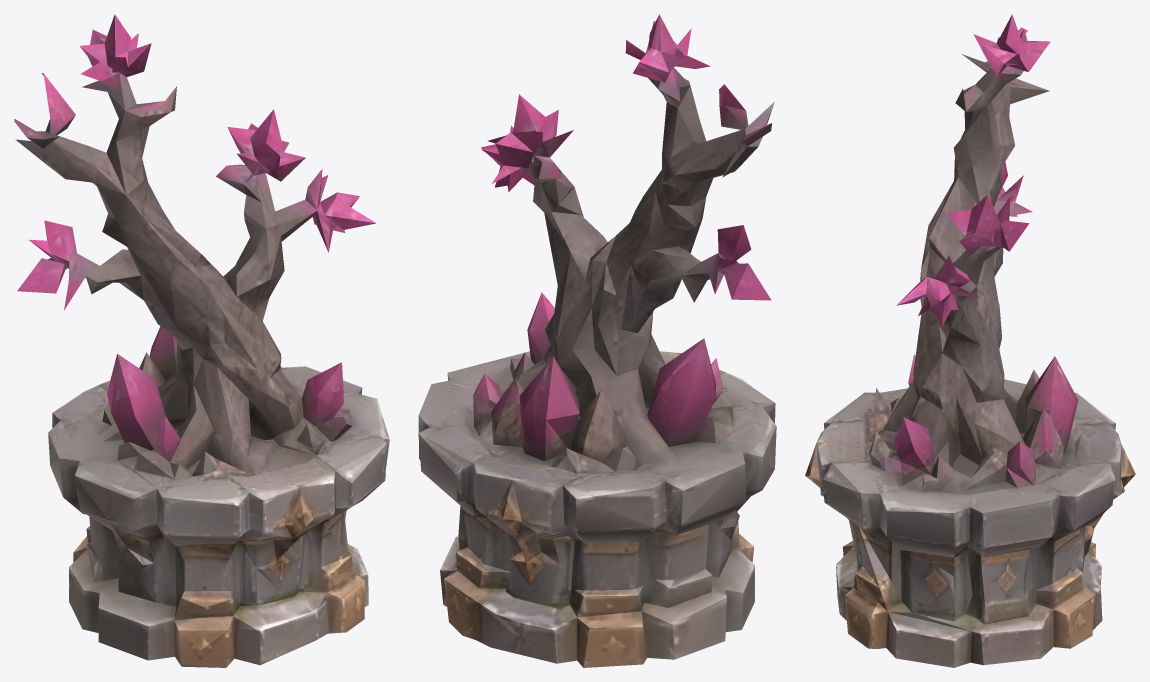
The model's file is hub_crystal_planter.glb.
3 renders of one model, left to right at view 1: azimuth 30°, elevation 25°; view 2: azimuth 150°, elevation 25°; view 3: azimuth 270°, elevation 25°, orthographic. The views are drawn at different scales.
Parts seen in each view (by area): view 1: body; view 2: body; view 3: body.
Boxes of the visible parts, bbox=[...] form: body: bbox=[14, 14, 389, 667]; body: bbox=[418, 14, 776, 667]; body: bbox=[805, 14, 1135, 667].
Size of the model in its own units: 1.41 by 2.4 by 1.29.
1 material, 1 textured.
